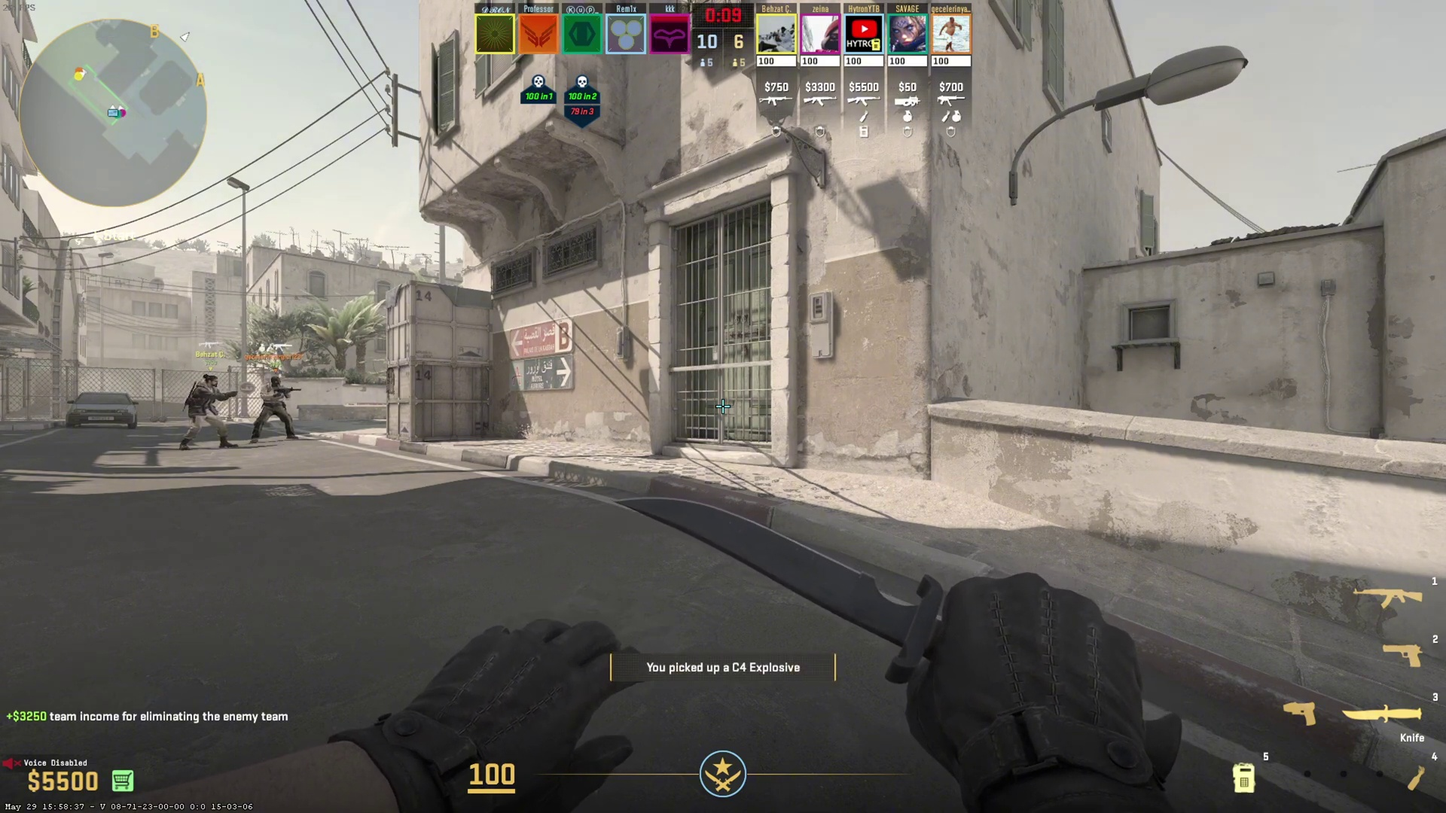Terrorist: (180, 375, 239, 451), (251, 377, 297, 443)
